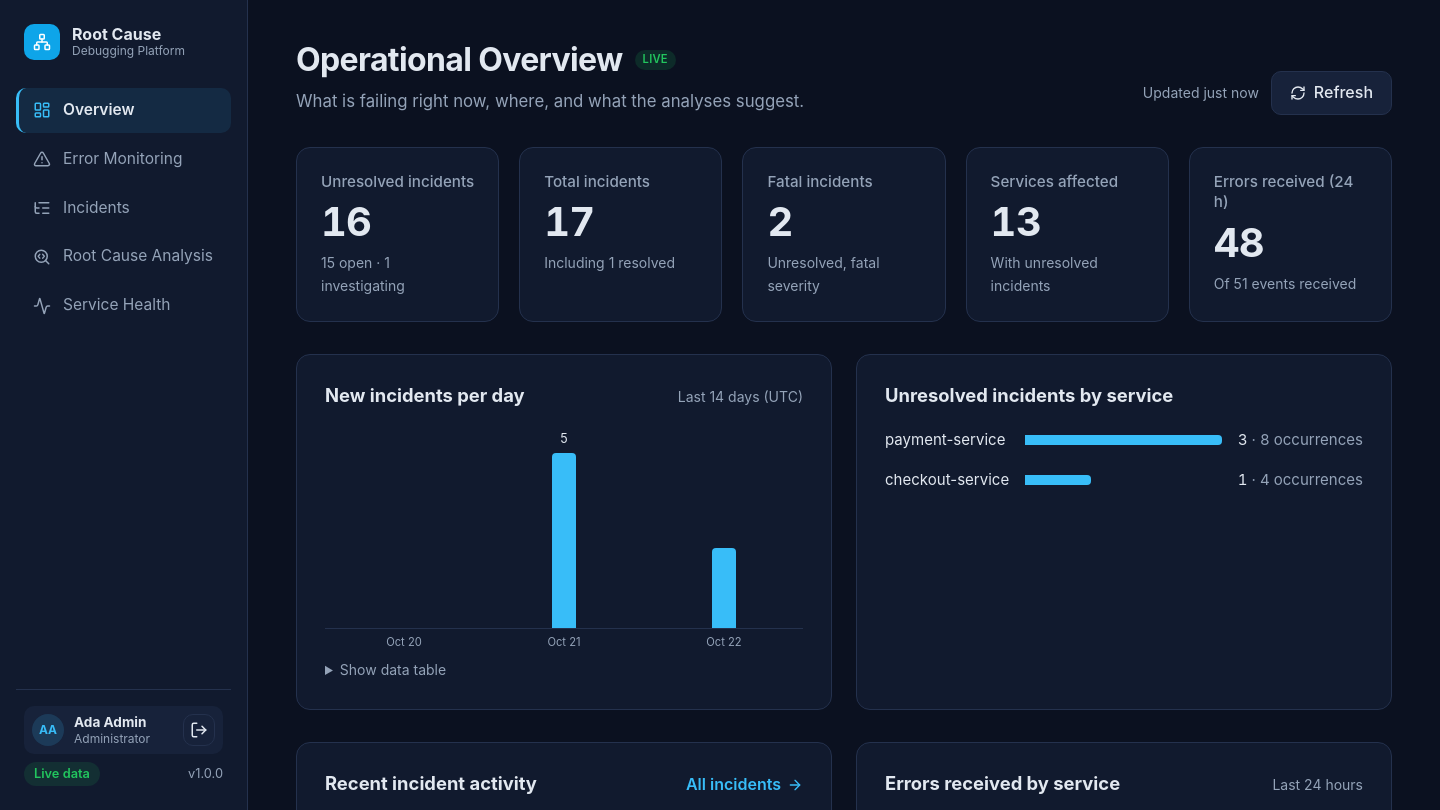
Test: signing out and expiry › signs out locally even when the sign-out request fails
Click the button named "Sign out" at {"x": 199, "y": 730}, box 183,714 -> 215,746
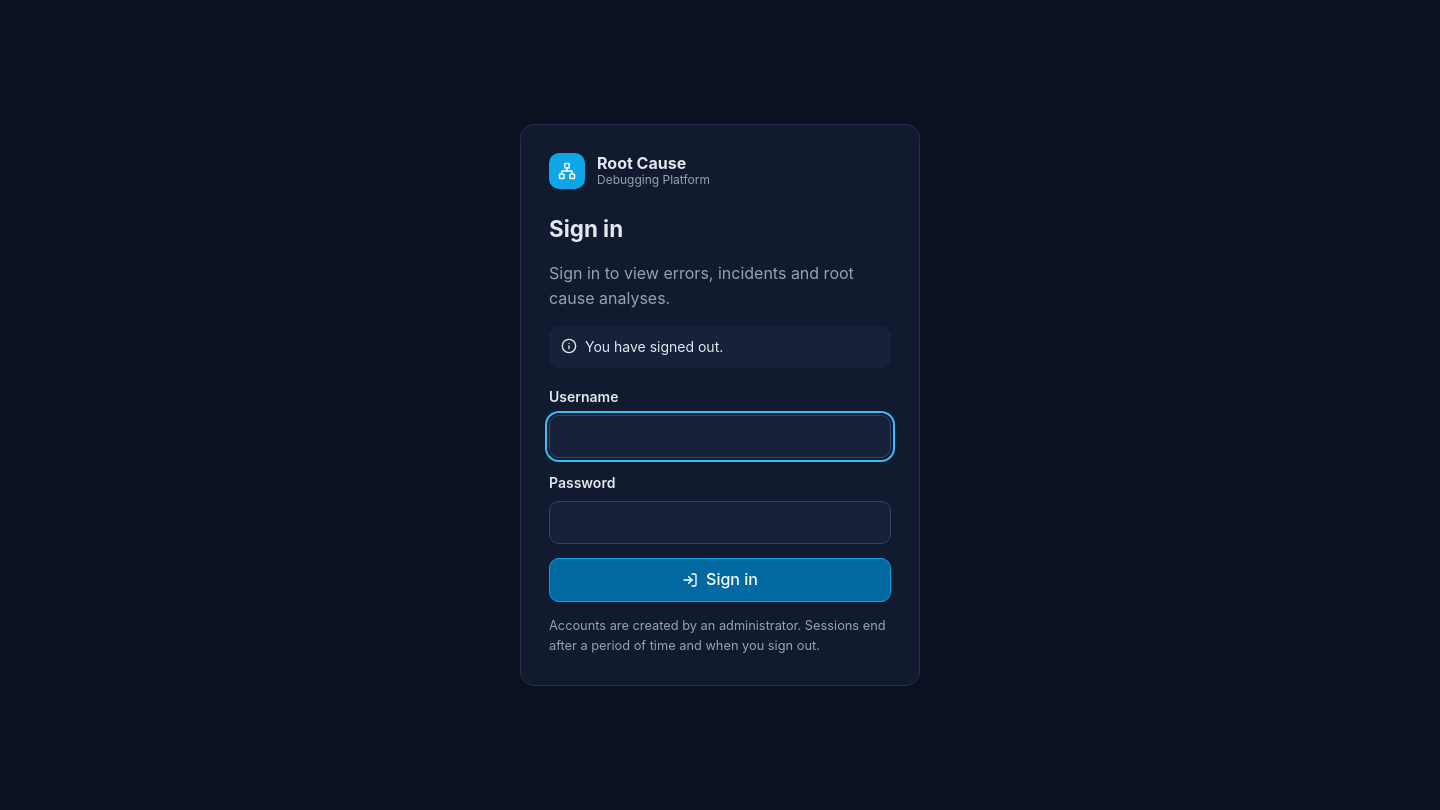
Check: the heading "Sign in" is shown, box 549,215 -> 623,242
